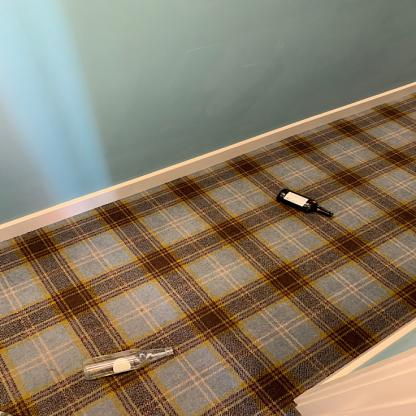trash: (78, 344, 177, 382), (278, 188, 332, 219)
